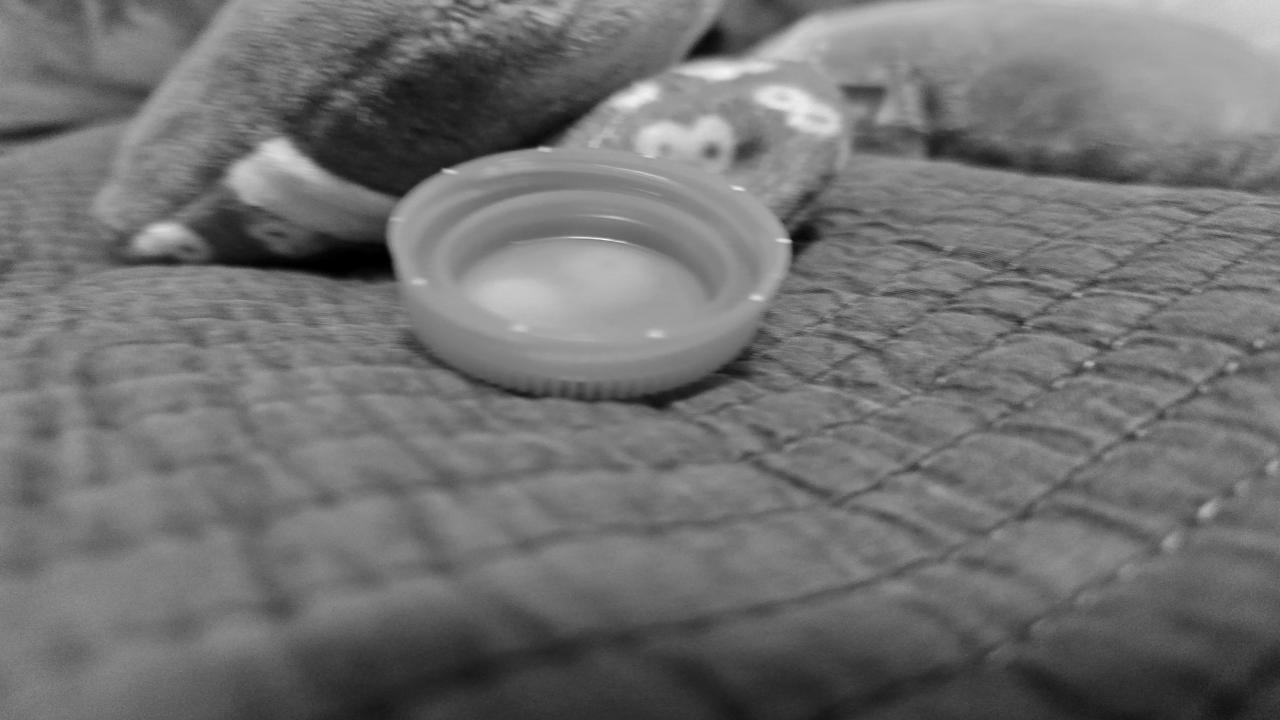bottle_cap: (394, 149, 788, 395)
